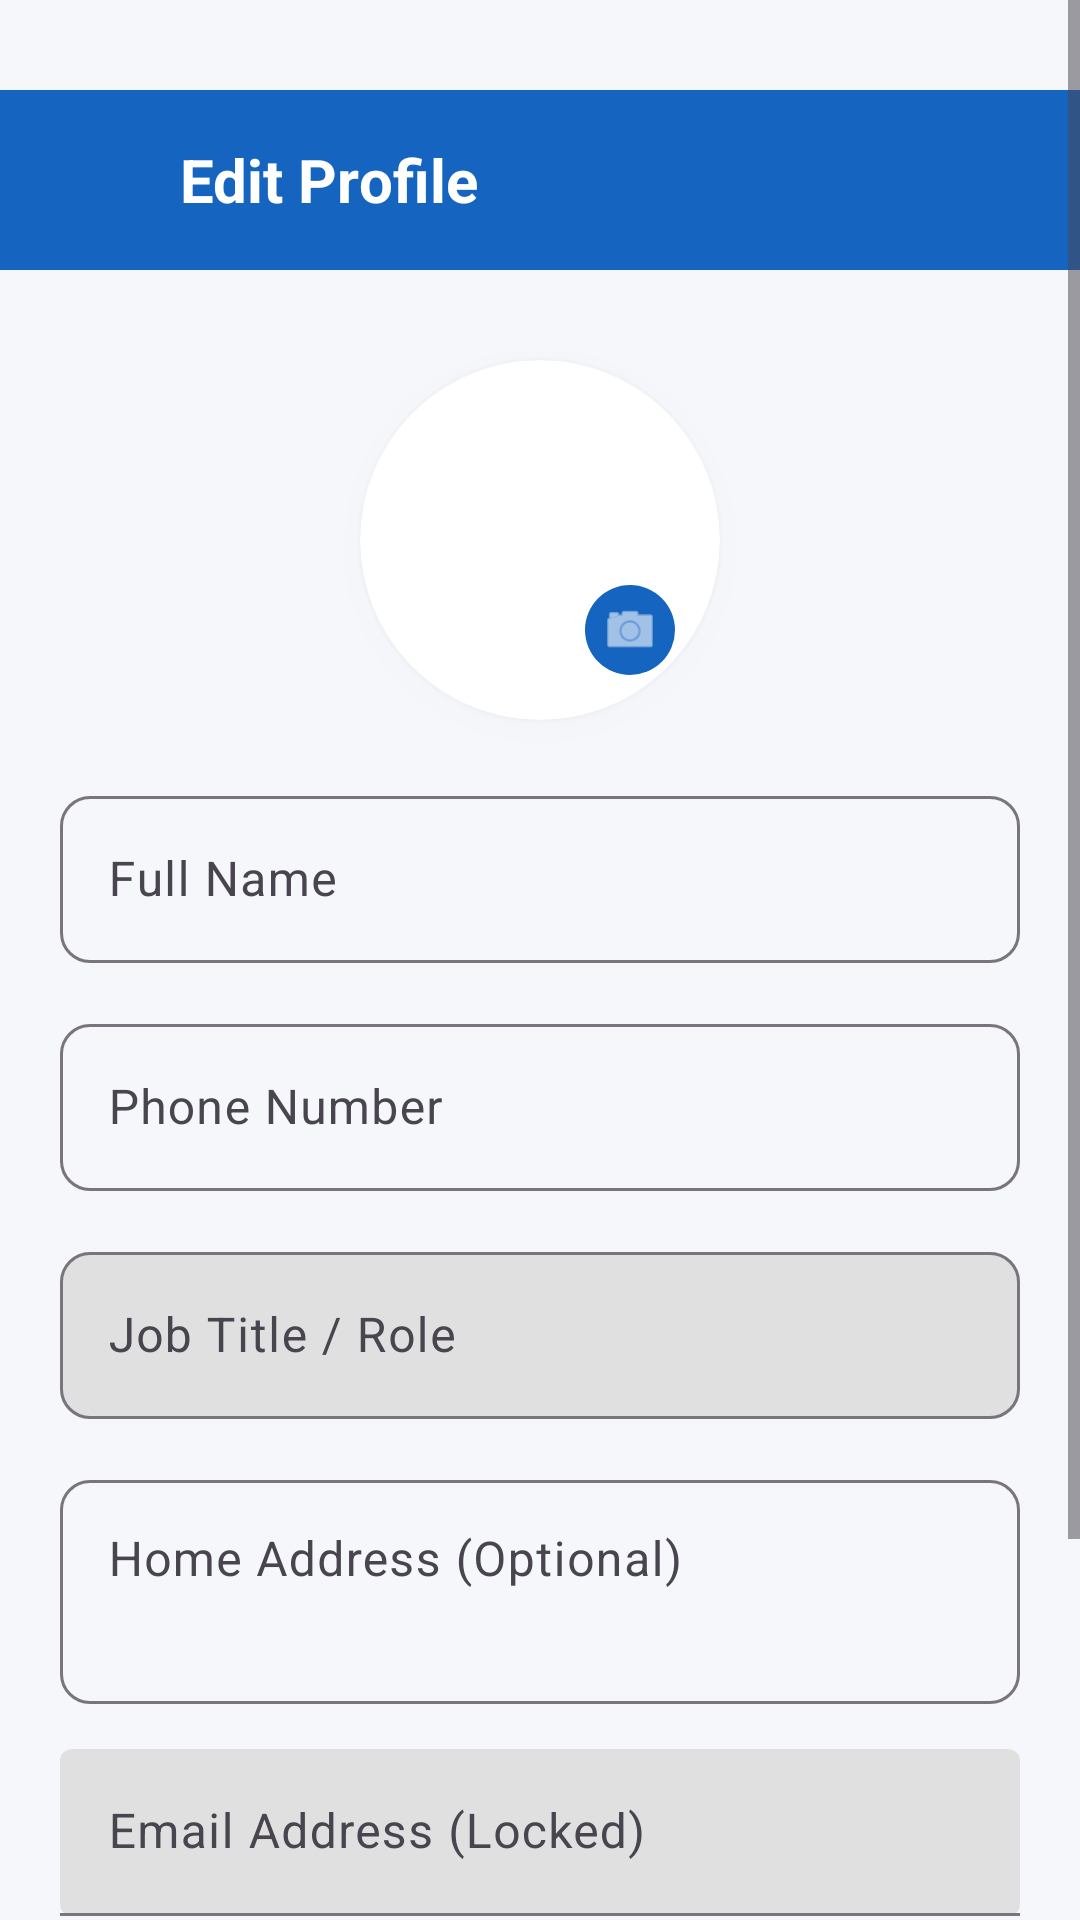

Icons on this 1080px x 1920px Android screen, each with its box as Rect(x1, y1, x2, y2):
camera: Rect(585, 585, 675, 675)
